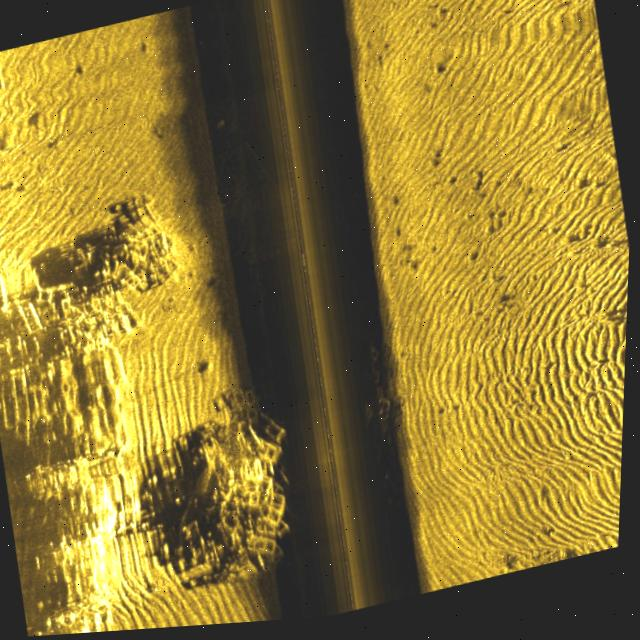artificial reef: (28, 179, 211, 374), (154, 372, 304, 592), (339, 335, 404, 457)
